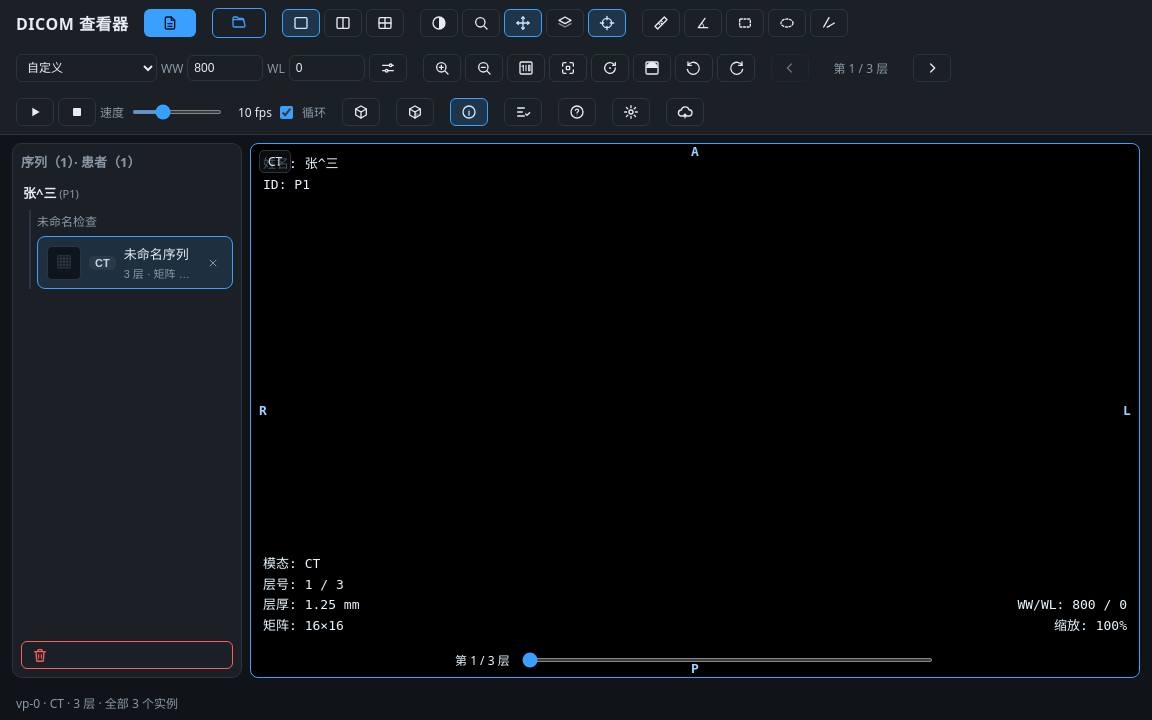
Test: App × 3D 体绘制（FR-7.1/7.12） › 合法序列时 3D 入口可用：点击进入体绘制并退出（FR-7.1/7.12）
Step 1. Click the button named "3D 体绘制（vtk.js 光线投射）" → x=415, y=112, box [396, 98, 434, 126]
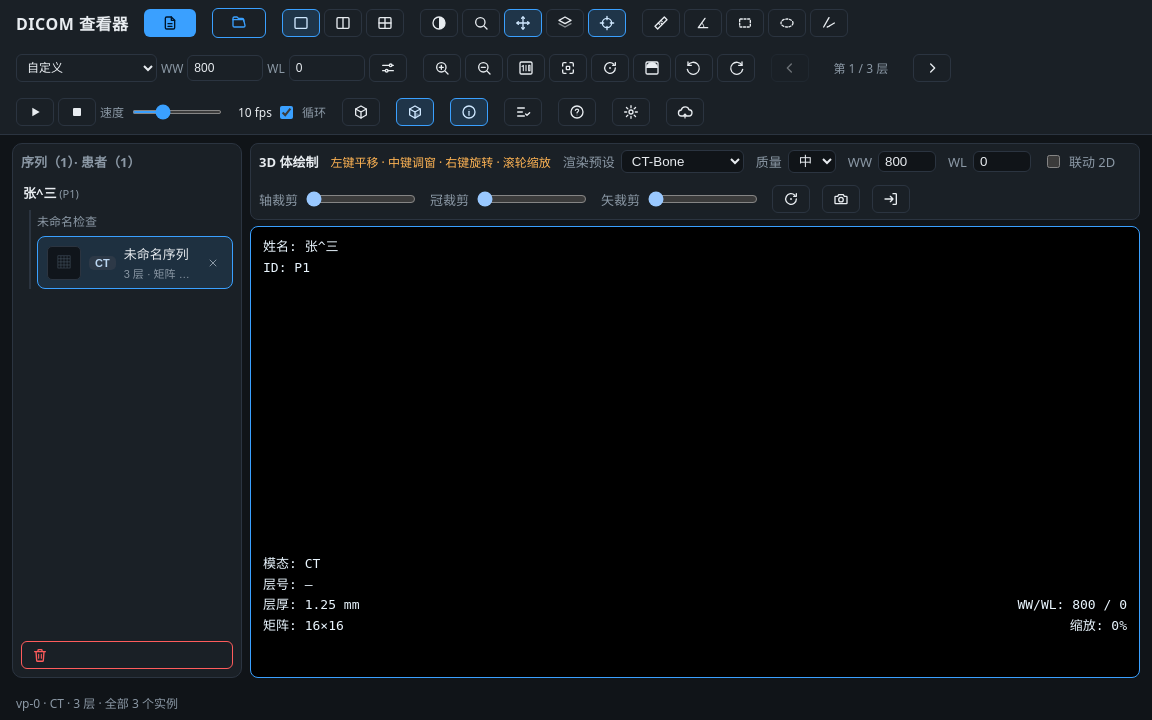
Check: the text "3D 体绘制" is shown, box [259, 152, 318, 171]
Note: 退出：返回 2D 网格，3D 视口被禁用
Step 2. Click the button "退出 3D" → x=891, y=199, box [872, 185, 910, 213]
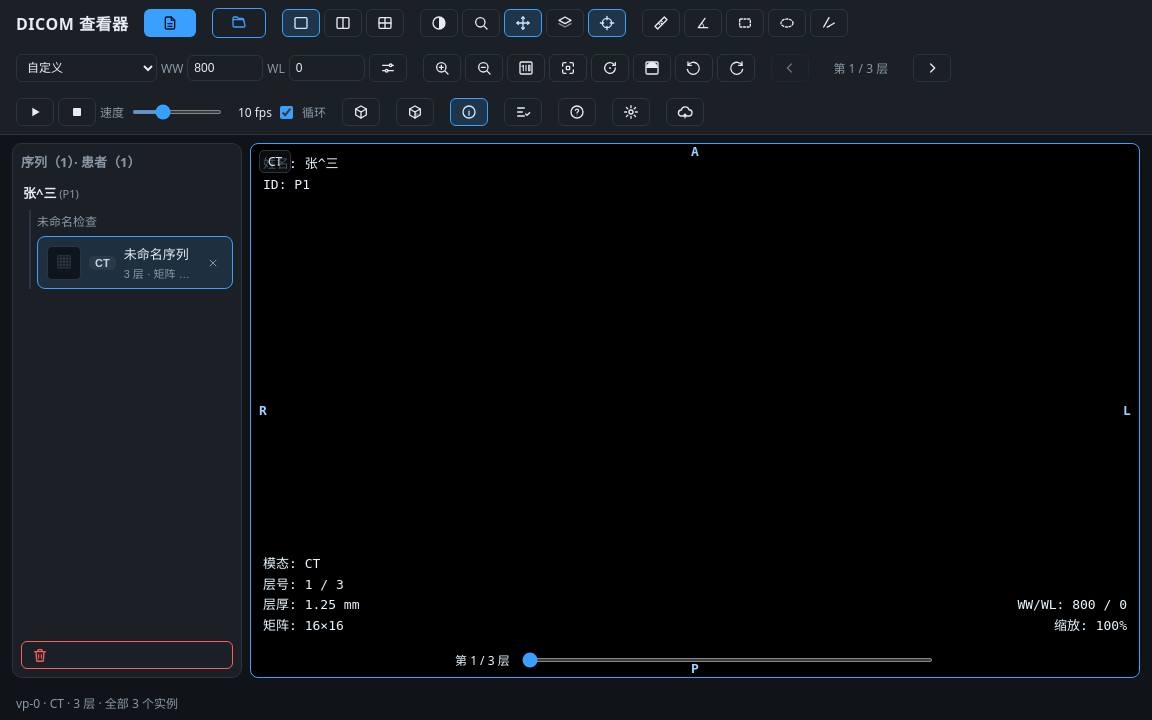
Check: the text "3D 体绘制" is gone
